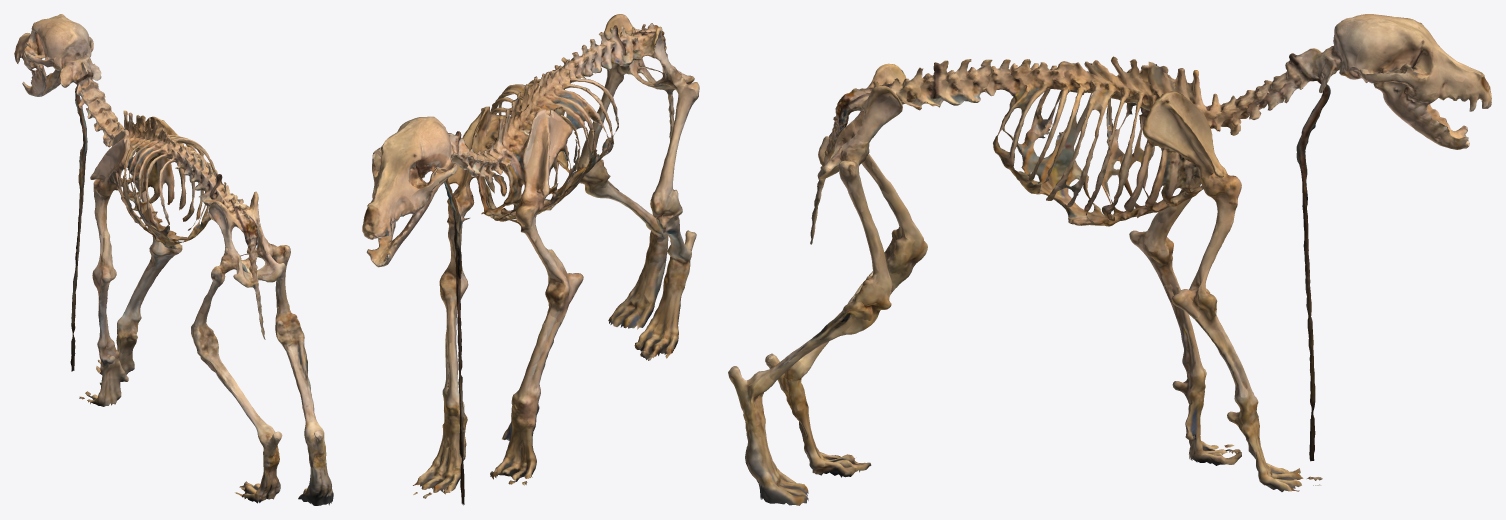
The model's file is canis-familiaris-tavernier-skeleton.glb.
3 renders of one model, left to right at view 1: azimuth 30°, elevation 25°; view 2: azimuth 150°, elevation 25°; view 3: azimuth 270°, elevation 25°, orthographic. The views are drawn at different scales.
Parts seen in each view (by area): view 1: cranium, vertebrae_lumbales, vertebrae_thoracicae, os_sacrum, costae_sinistrae, crus_dextrum, vertebrae_cervicales, crus_sinistrum, antebrachium_sinistrum, antebrachium_dextrum, costae_dextrae, pes_dexter (+12 smaller); view 2: cranium, vertebrae_thoracicae, costae_sinistrae, pes_dexter, antebrachium_sinistrum, vertebrae_lumbales, os_sacrum, vertebrae_cervicales, antebrachium_dextrum, humerus_sinister, crus_dextrum, femur_sinister (+12 smaller); view 3: cranium, vertebrae_lumbales, costae_dextrae, vertebrae_thoracicae, os_sacrum, vertebrae_cervicales, crus_dextrum, pes_dexter, antebrachium_sinistrum, femur_dexter, costae_sinistrae, femur_sinister (+10 smaller).
Part boxes in pixels (left/top/right/bottom): cranium: left=14, top=14, right=101, bottom=175; vertebrae_lumbales: left=139, top=140, right=214, bottom=247; vertebrae_thoracicae: left=109, top=110, right=193, bottom=170; os_sacrum: left=199, top=170, right=263, bottom=246; costae_sinistrae: left=93, top=145, right=155, bottom=254; crus_dextrum: left=271, top=350, right=326, bottom=467; vertebrae_cervicales: left=78, top=70, right=149, bottom=224; crus_sinistrum: left=200, top=355, right=281, bottom=464; antebrachium_sinistrum: left=71, top=252, right=127, bottom=381; antebrachium_dextrum: left=116, top=267, right=161, bottom=357; costae_dextrae: left=121, top=120, right=215, bottom=230; pes_dexter: left=244, top=459, right=333, bottom=505; cranium: left=362, top=116, right=468, bottom=264; vertebrae_thoracicae: left=470, top=67, right=585, bottom=171; costae_sinistrae: left=493, top=101, right=600, bottom=268; pes_dexter: left=608, top=257, right=671, bottom=357; antebrachium_sinistrum: left=458, top=322, right=561, bottom=474; vertebrae_lumbales: left=528, top=32, right=618, bottom=191; os_sacrum: left=603, top=14, right=668, bottom=66; vertebrae_cervicales: left=447, top=131, right=502, bottom=323; antebrachium_dextrum: left=441, top=316, right=467, bottom=450; humerus_sinister: left=457, top=250, right=583, bottom=361; crus_dextrum: left=585, top=180, right=686, bottom=285; femur_sinister: left=650, top=122, right=684, bottom=224; cranium: left=1300, top=14, right=1491, bottom=195; vertebrae_lumbales: left=956, top=59, right=1066, bottom=208; costae_dextrae: left=1063, top=98, right=1218, bottom=247; vertebrae_thoracicae: left=1063, top=56, right=1218, bottom=145; os_sacrum: left=835, top=60, right=958, bottom=136; vertebrae_cervicales: left=1215, top=53, right=1309, bottom=263; crus_dextrum: left=728, top=316, right=877, bottom=432; pes_dexter: left=745, top=405, right=870, bottom=505; antebrachium_sinistrum: left=1163, top=284, right=1315, bottom=432; femur_dexter: left=834, top=208, right=893, bottom=320; costae_sinistrae: left=1061, top=91, right=1201, bottom=224; femur_sinister: left=810, top=166, right=927, bottom=274.
Size of the model in its own units: 0.1361 by 0.4249 by 0.6463.
Materials: 1 (1 with a texture image).
